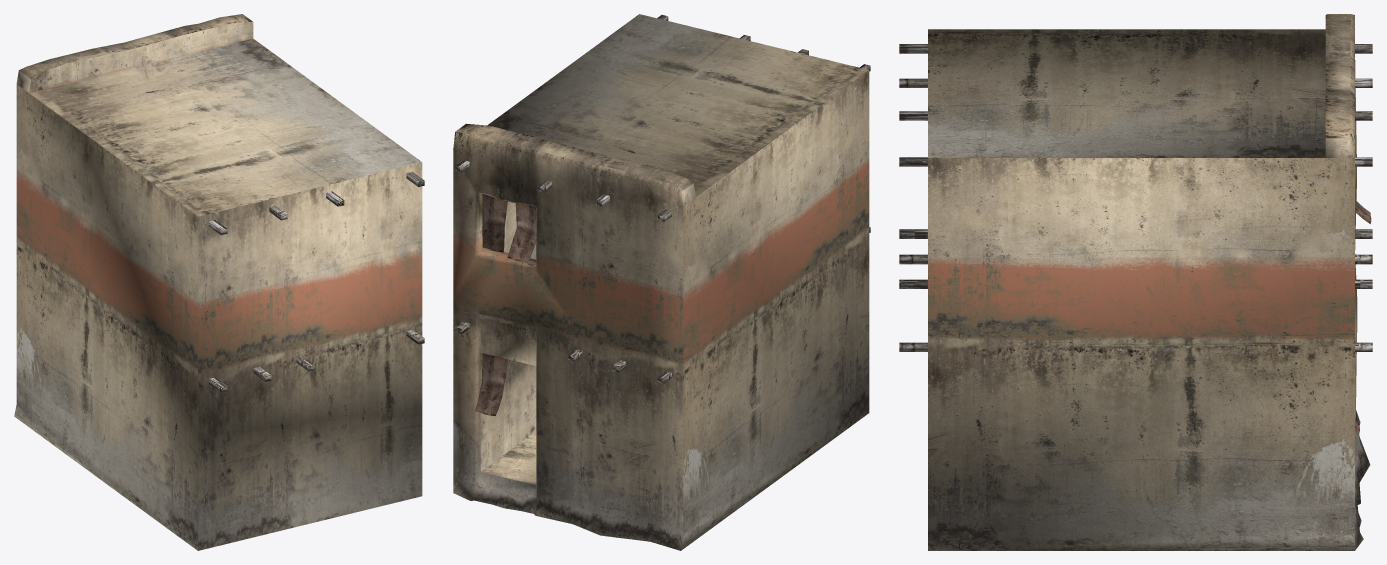
The model's file is BuildingO.obj.
3 views of the same model, side by side, from view 1: azimuth 30°, elevation 25°; view 2: azimuth 150°, elevation 25°; view 3: azimuth 270°, elevation 25° (orthographic). The views are drawn at different scales.
Visible parts, largest first — view 1: BuildingO; view 2: BuildingO; view 3: BuildingO.
Part boxes in pixels (x1,y1,x2,y2): BuildingO: (14,14,424,550); BuildingO: (453,14,870,550); BuildingO: (899,14,1372,550).
Size of the model in its own units: 164 by 248 by 255.
